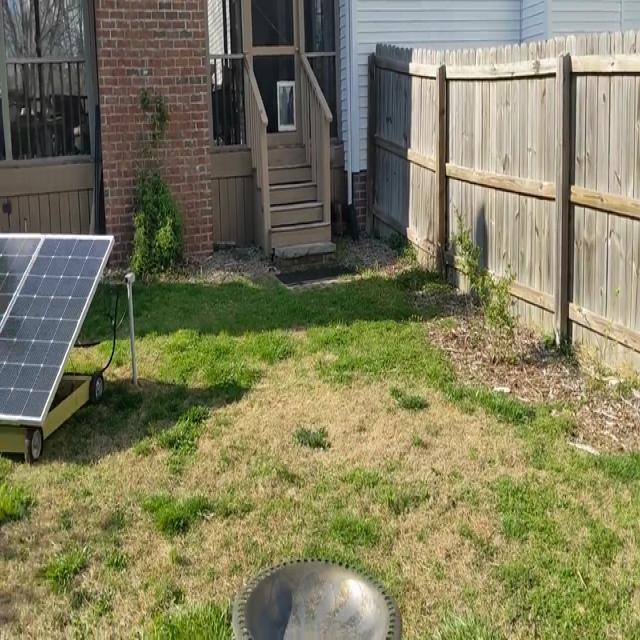Normal Solar Panel: (0, 231, 115, 427)
